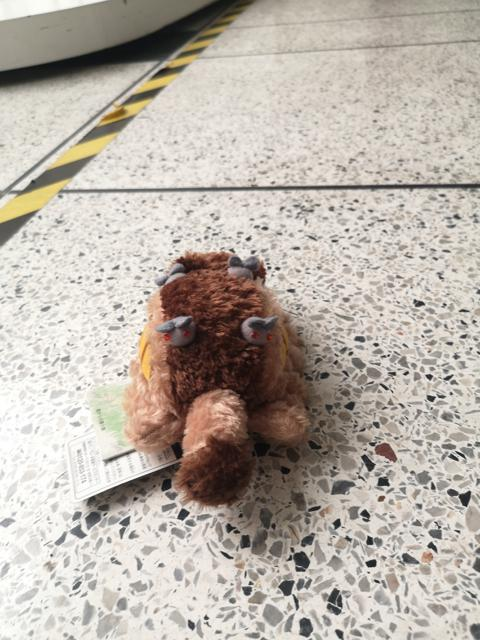nekobus: (118, 239, 320, 514)
